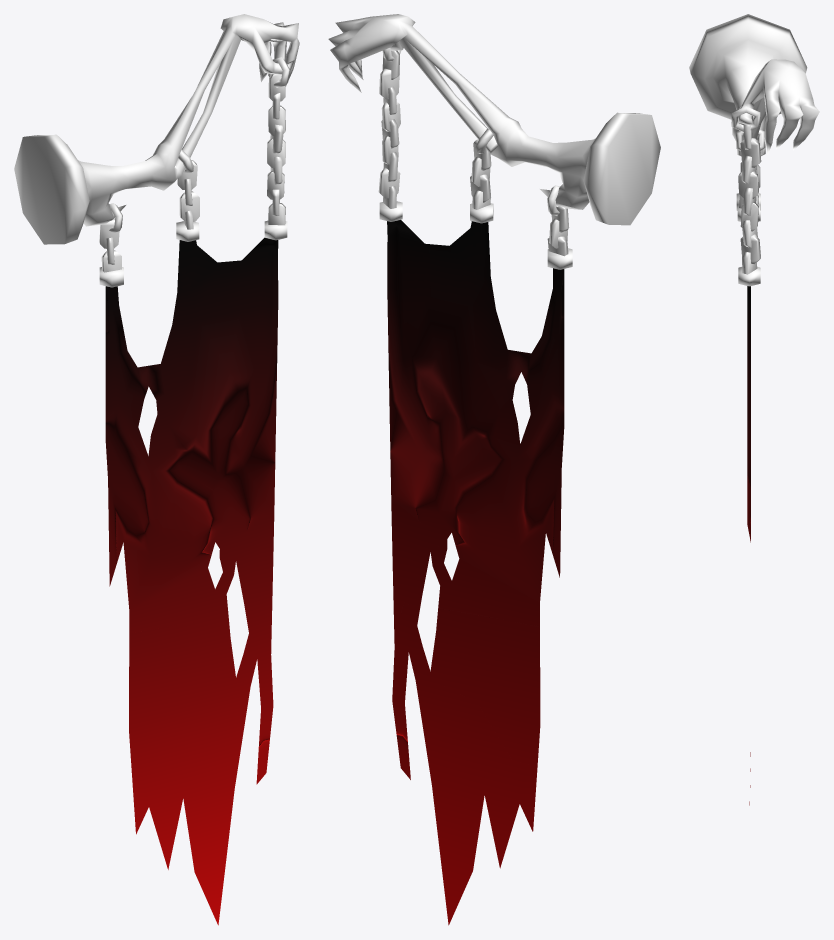
The model's file is SM_Prop_Banner_01.fbx.
3 renders of one model, left to right at view 1: azimuth 30°, elevation 25°; view 2: azimuth 150°, elevation 25°; view 3: azimuth 270°, elevation 25°, orthographic. The views are drawn at different scales.
Parts seen in each view (by area): view 1: SM_Prop_Banner_01_Flag, SM_Prop_Banner_01; view 2: SM_Prop_Banner_01_Flag, SM_Prop_Banner_01; view 3: SM_Prop_Banner_01, SM_Prop_Banner_01_Flag.
Boxes of the visible parts, x1,y1,x2,y2 form: SM_Prop_Banner_01_Flag: (105,237,278,925); SM_Prop_Banner_01: (14,14,299,287); SM_Prop_Banner_01_Flag: (387,220,564,925); SM_Prop_Banner_01: (328,14,660,269); SM_Prop_Banner_01: (689,14,819,286); SM_Prop_Banner_01_Flag: (747,286,750,805).
Size of the model in its own units: 124 by 386 by 51.91.
